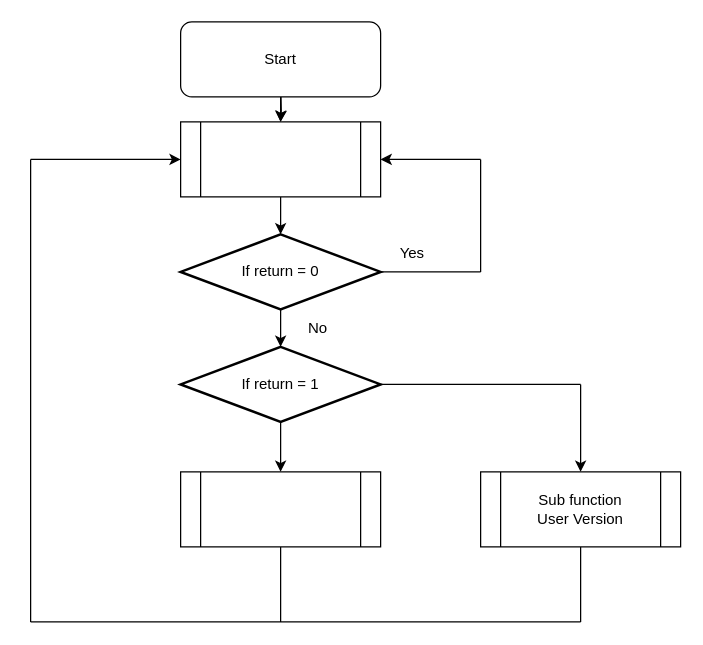
Image size: 703x645. Some labels were removed from this diagram. The shapes that lost their labels are listed below. From the top down, each one's centre as x and y in pixels, then its label:
At pixel 280 159: "Sub function Log in (return 0 or 1 or 2)".
At pixel 280 509: "Sub function Admin Version".
